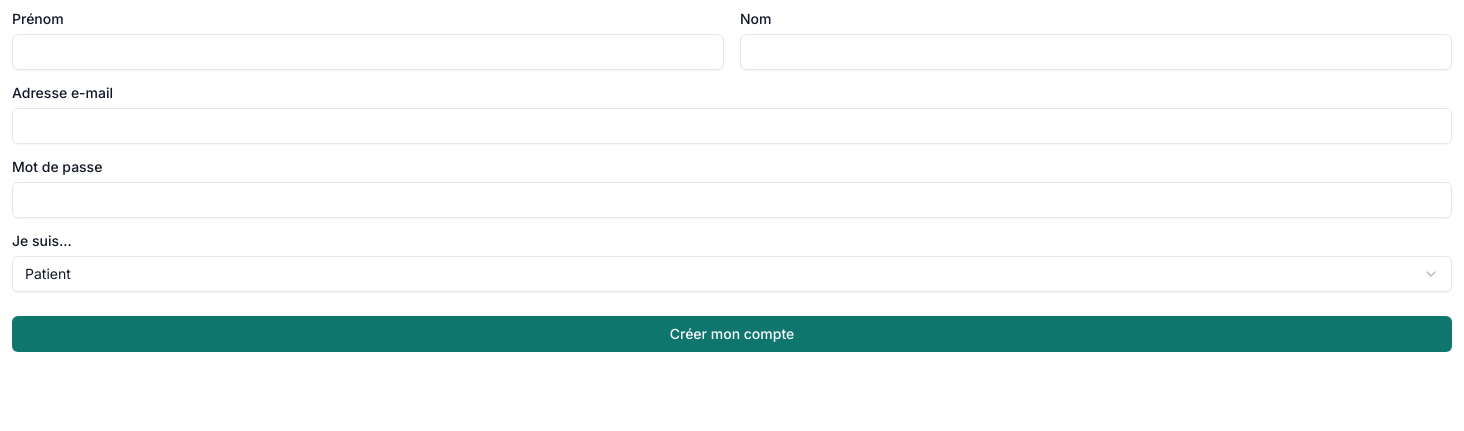
RegisterForm › shows the email-taken error on a duplicate registration
The width and height of the screenshot is (1464, 431).
Type "Amina" into the field labelled "Prénom" at (368, 52), box [12, 34, 724, 70]
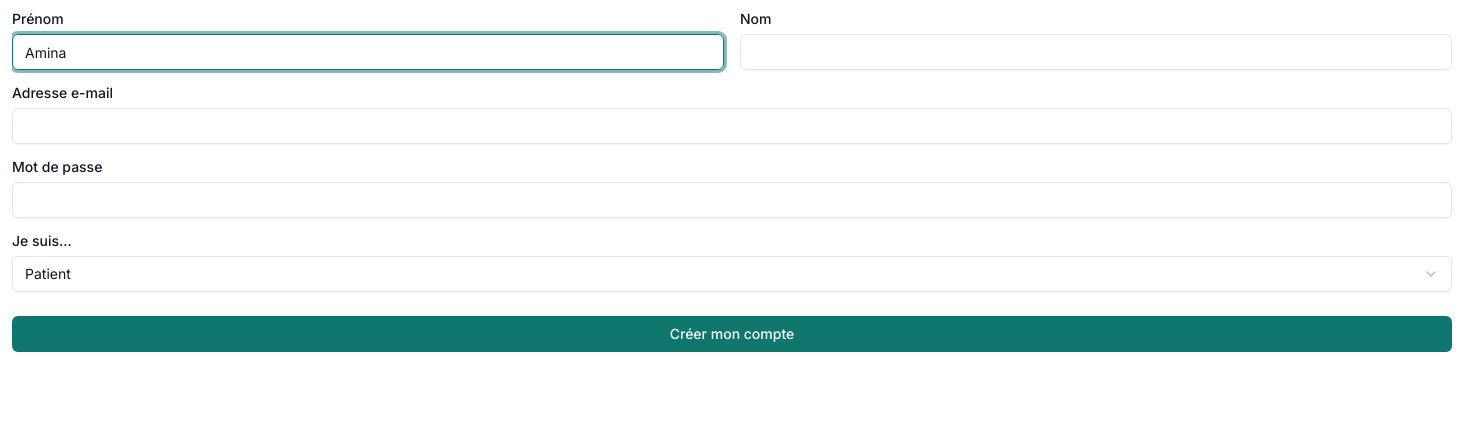
Type "Bennis" into the field labelled "Nom" at (1096, 52), box [740, 34, 1452, 70]
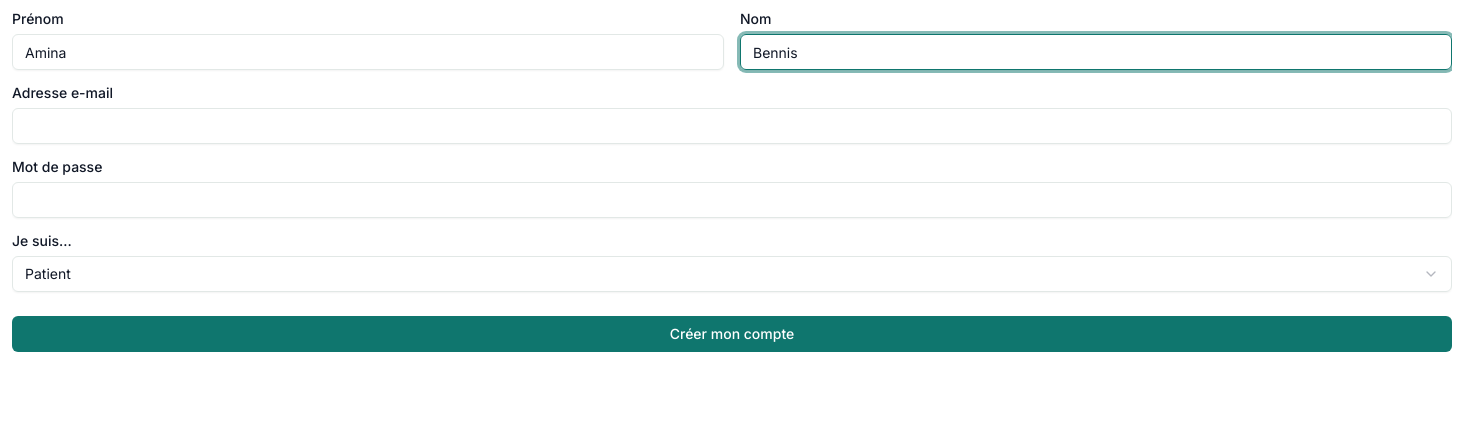
Type "amina@example.com" into the field labelled "Adresse e-mail" at (732, 126), box [12, 108, 1452, 144]
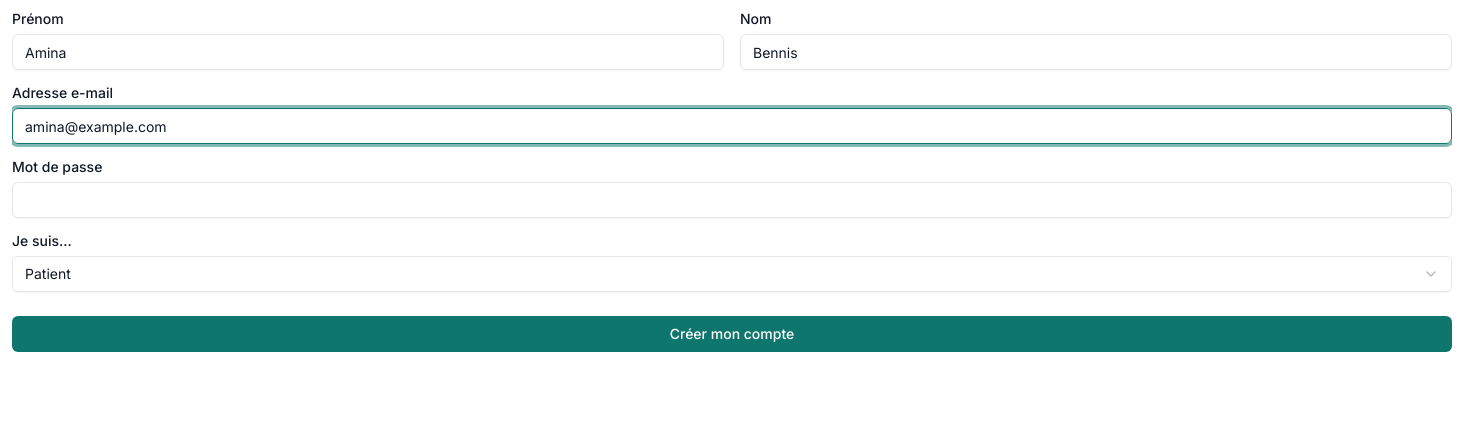
Type "longenough" into the password field labelled "Mot de passe" at (732, 200), box [12, 182, 1452, 218]
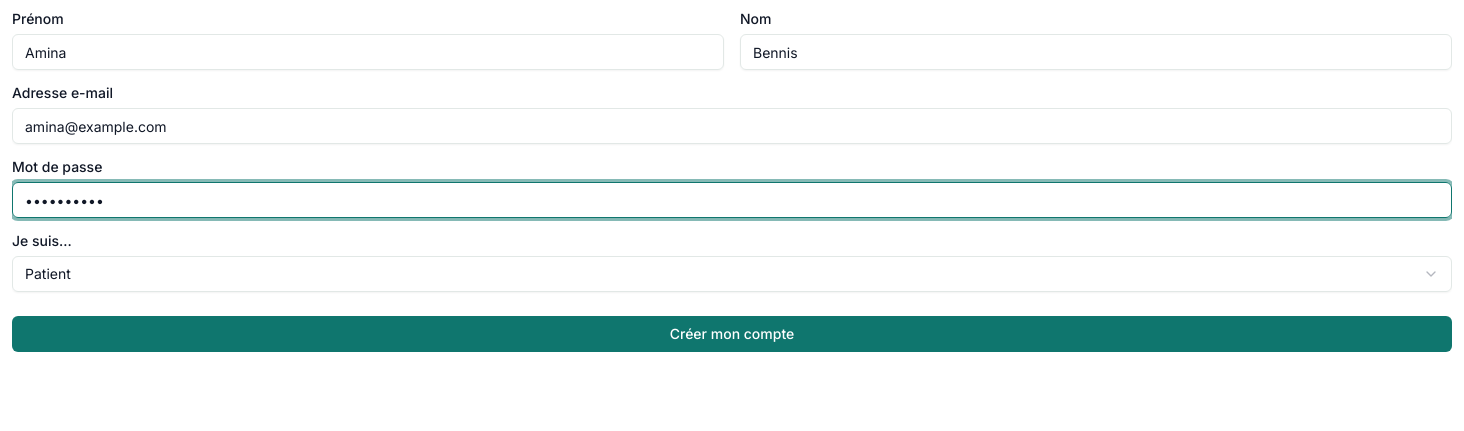
Click the button "Créer mon compte" at (732, 334), box [12, 316, 1452, 352]
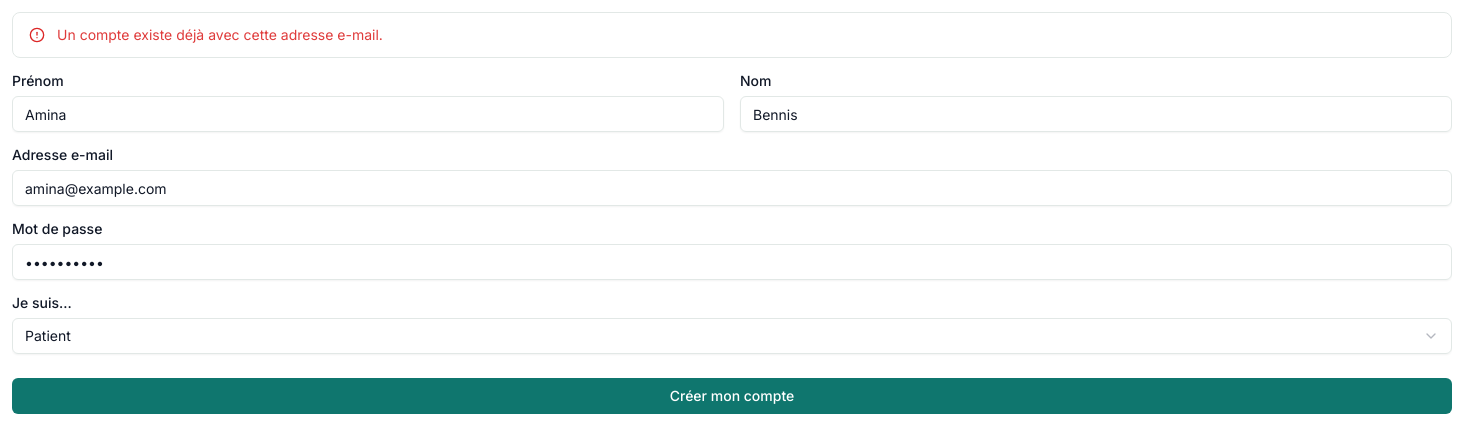
Expected: the text "Un compte existe déjà avec cette adresse e-mail." is shown, [57, 26, 383, 43]
